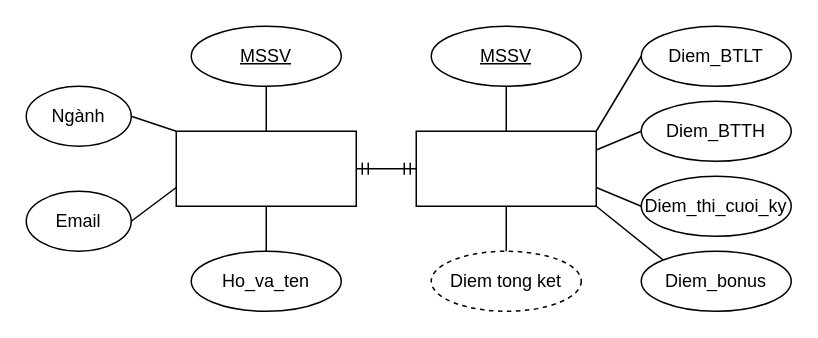
The diagram is 818 pixels wide and 338 high, and some of its shapes have lost their labels. Each missing label, with the centre of its shape:
"BANGDIEM" goes at [505,168].
"SINHVIEN" goes at [265,168].
